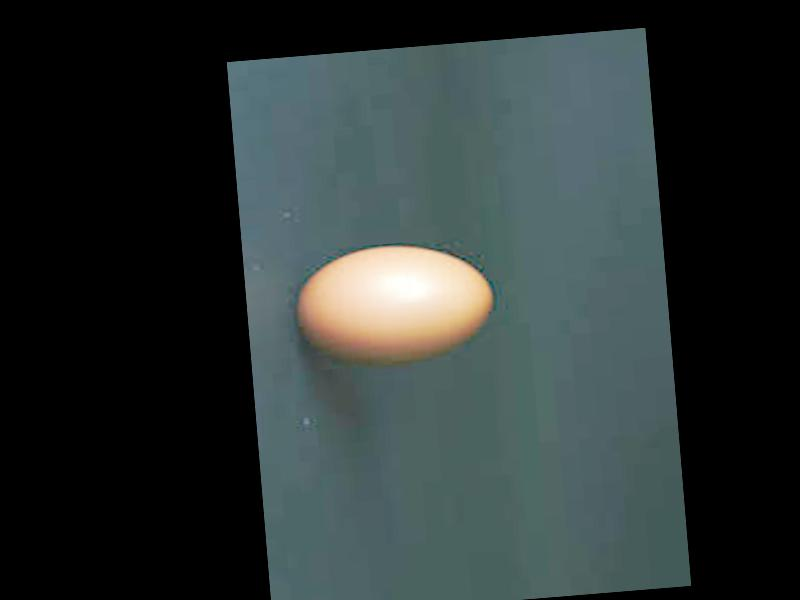Eggs: (292, 240, 496, 368)
